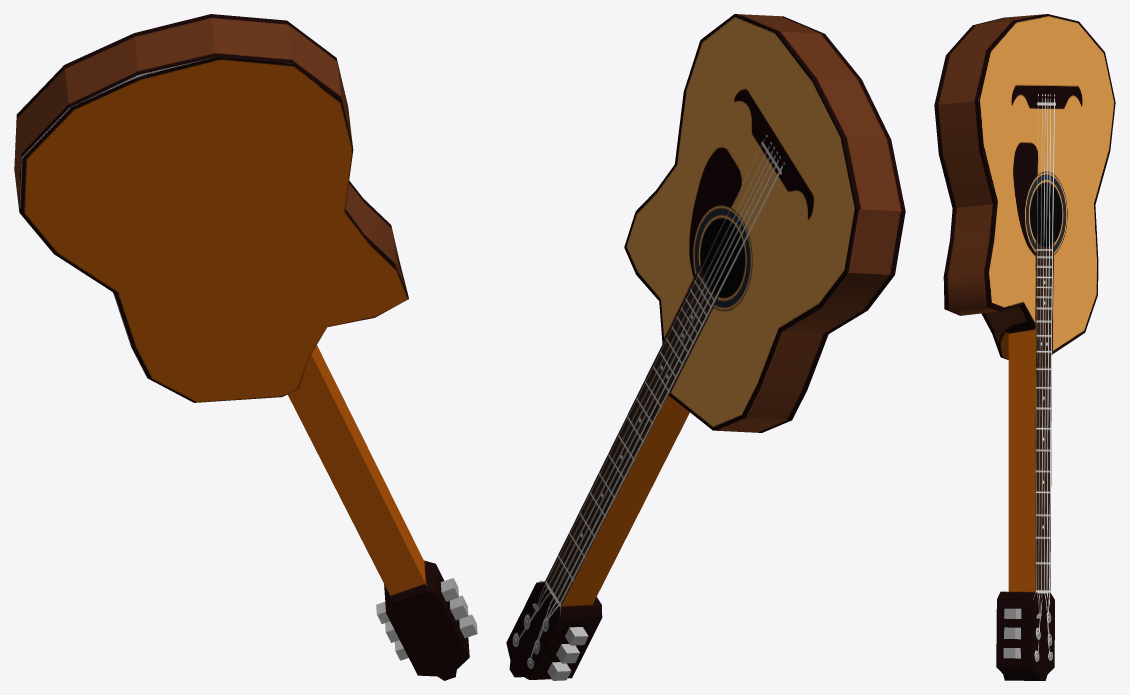
Rendered from guitarra3_000187.obj.
3 views of the same model, side by side, from view 1: azimuth 30°, elevation 25°; view 2: azimuth 150°, elevation 25°; view 3: azimuth 270°, elevation 25° (orthographic). The views are drawn at different scales.
Parts seen in each view (by area): view 1: Guitarra_2:pPlane4; view 2: Guitarra_2:pPlane4; view 3: Guitarra_2:pPlane4.
Boxes of the visible parts, x1=… form: Guitarra_2:pPlane4: x1=14, y1=14, x2=477, y2=680; Guitarra_2:pPlane4: x1=506, y1=14, x2=905, y2=680; Guitarra_2:pPlane4: x1=934, y1=14, x2=1115, y2=680.
Bounding box in the file's own units: 7.39 × 11.87 × 3.41.
